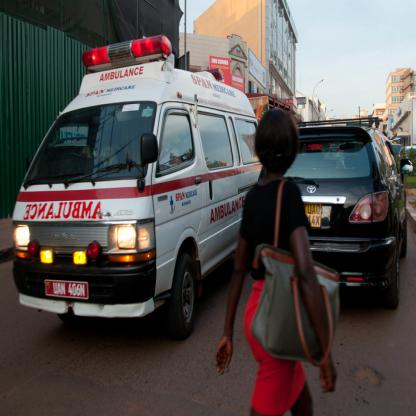Ambulance: (11, 34, 263, 340)
Car: (259, 116, 407, 310)
